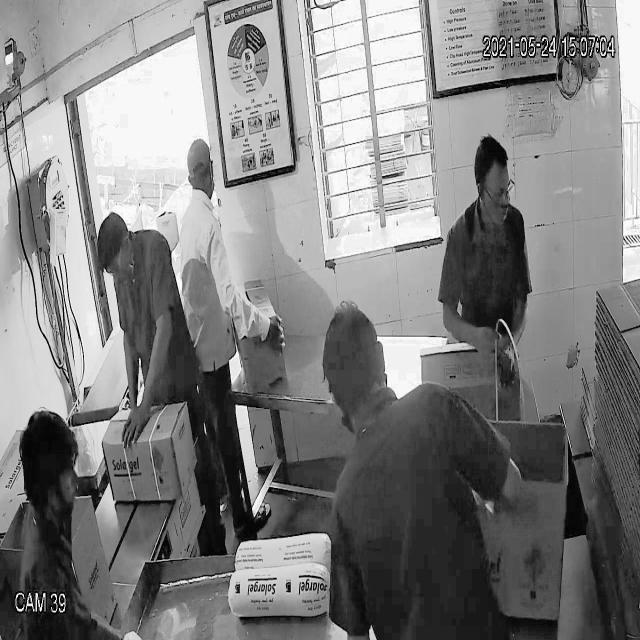glasses: (469, 175, 517, 207)
